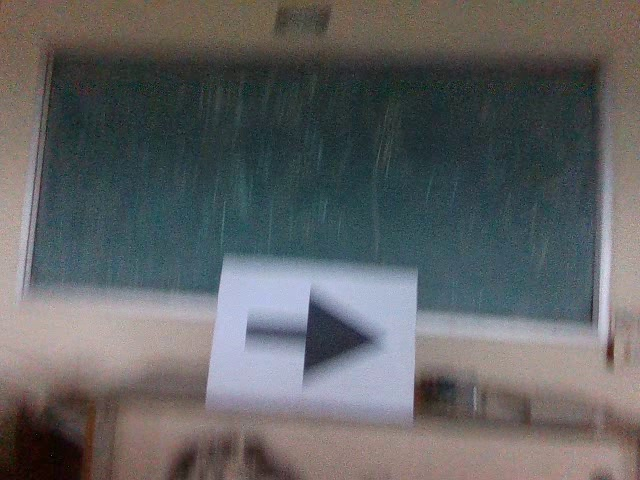Right: (238, 281, 384, 389)
